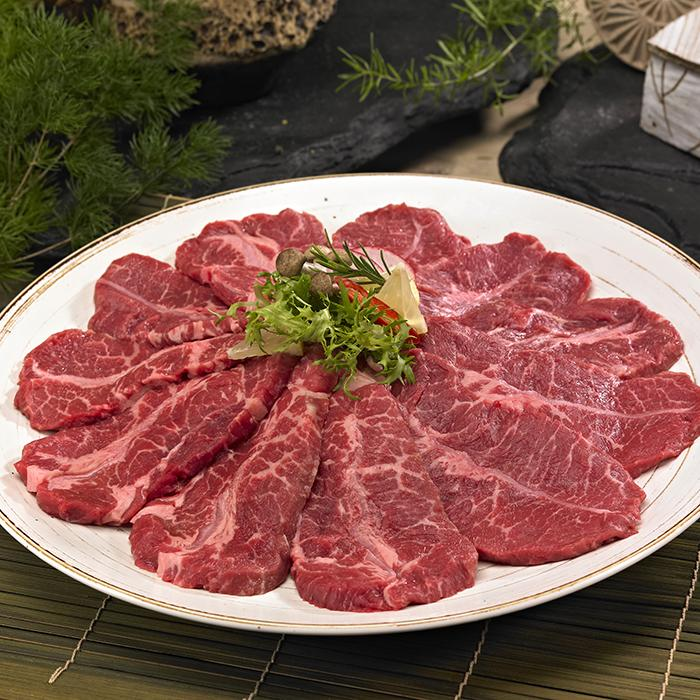beef: (501, 361, 700, 585), (342, 428, 516, 650), (57, 365, 242, 571)
